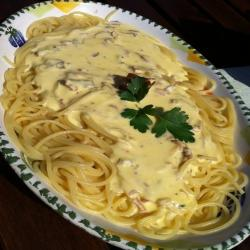carbonara: (17, 19, 239, 230)
